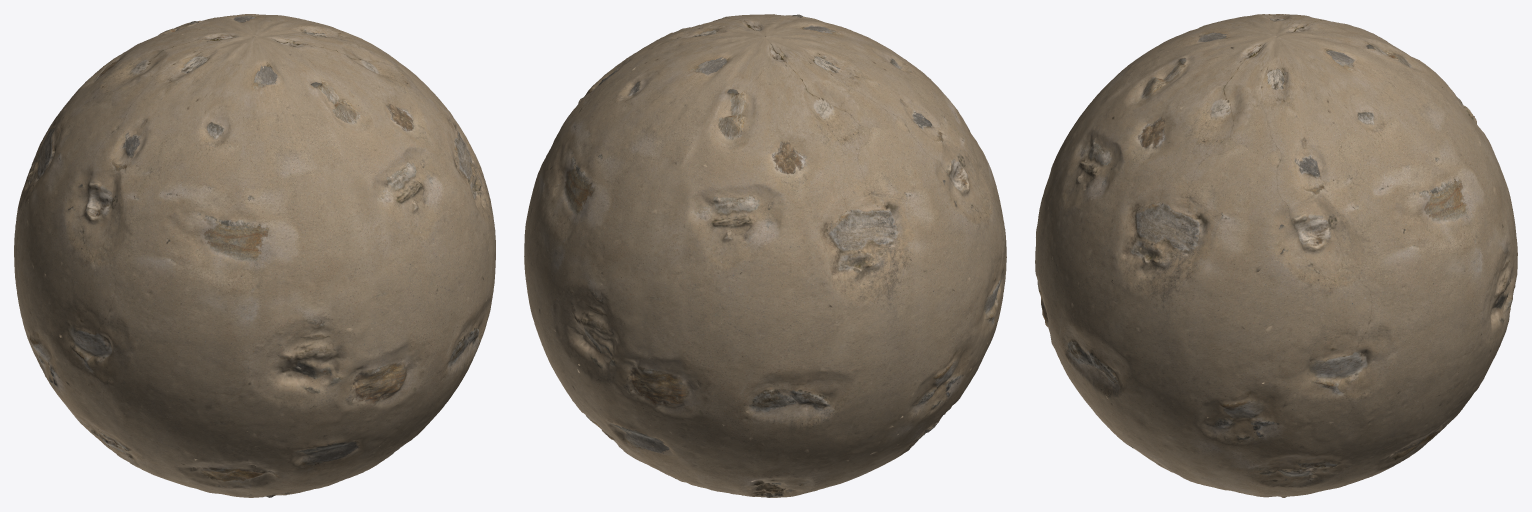
Rendered from plaster_stone_wall_01_2k.gltf.
3 views of the same model, side by side, from view 1: azimuth 30°, elevation 25°; view 2: azimuth 150°, elevation 25°; view 3: azimuth 270°, elevation 25° (orthographic).
Visible parts, largest first — view 1: sphere_gltf; view 2: sphere_gltf; view 3: sphere_gltf.
Boxes of the visible parts, x1,y1,x2,y2 form: sphere_gltf: (14, 14, 495, 497); sphere_gltf: (524, 14, 1006, 497); sphere_gltf: (1035, 14, 1517, 497).
Bounding box in the file's own units: 2.3 × 2.3 × 2.3.
1 material, 1 textured.
